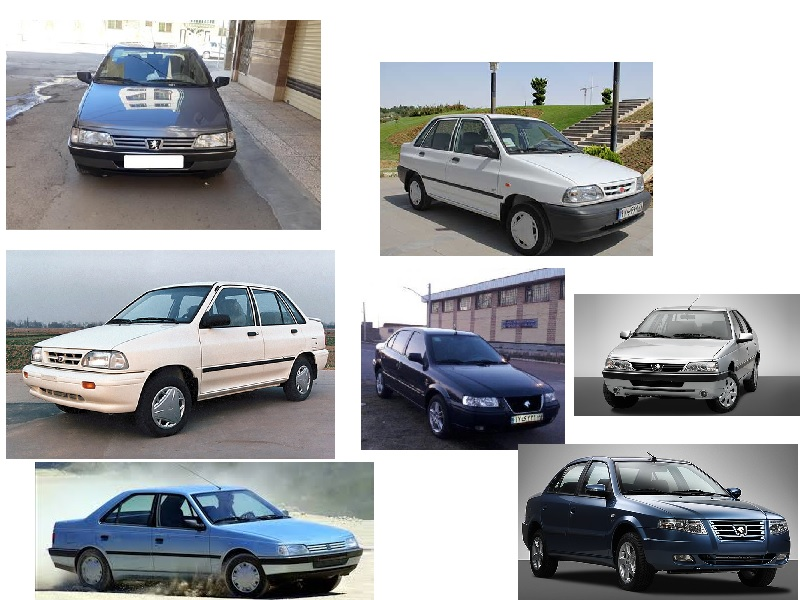peugeot: (46, 479, 360, 586), (64, 38, 239, 184), (594, 308, 766, 411)
pride: (20, 276, 326, 441), (394, 112, 651, 257)
samand: (519, 454, 797, 591), (370, 325, 557, 440)
